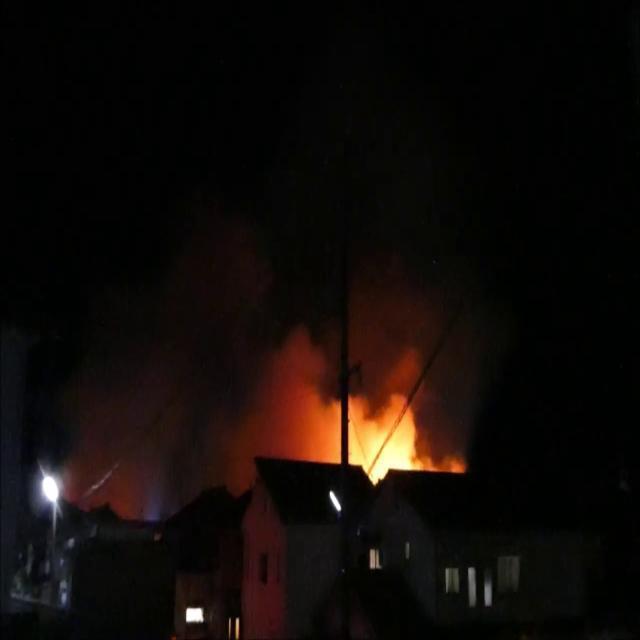Fire: (306, 376, 444, 484)
Smoke: (256, 234, 458, 476)
